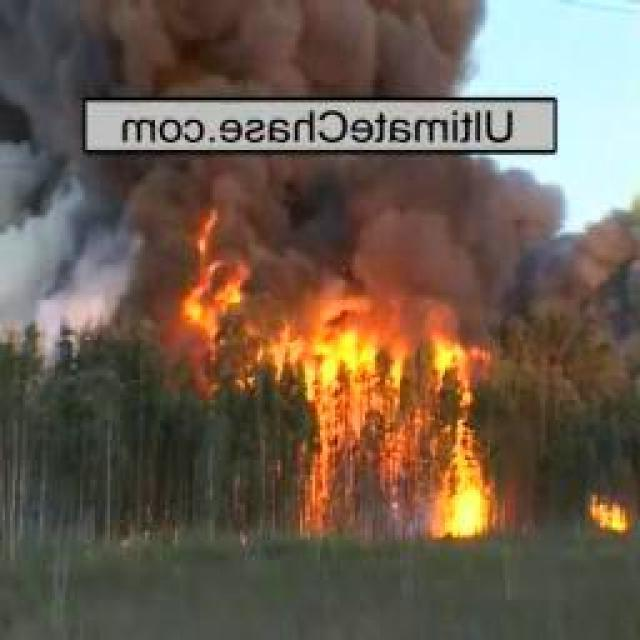Fire: (292, 350, 513, 557), (165, 232, 256, 348), (587, 494, 638, 534)
